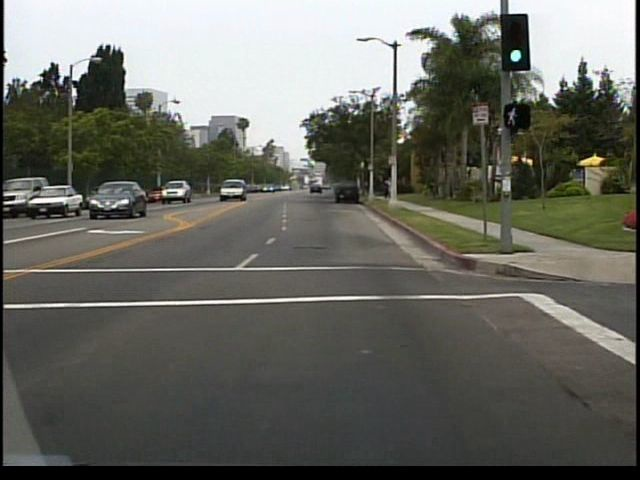person: (387, 175, 399, 200), (387, 178, 388, 199)
